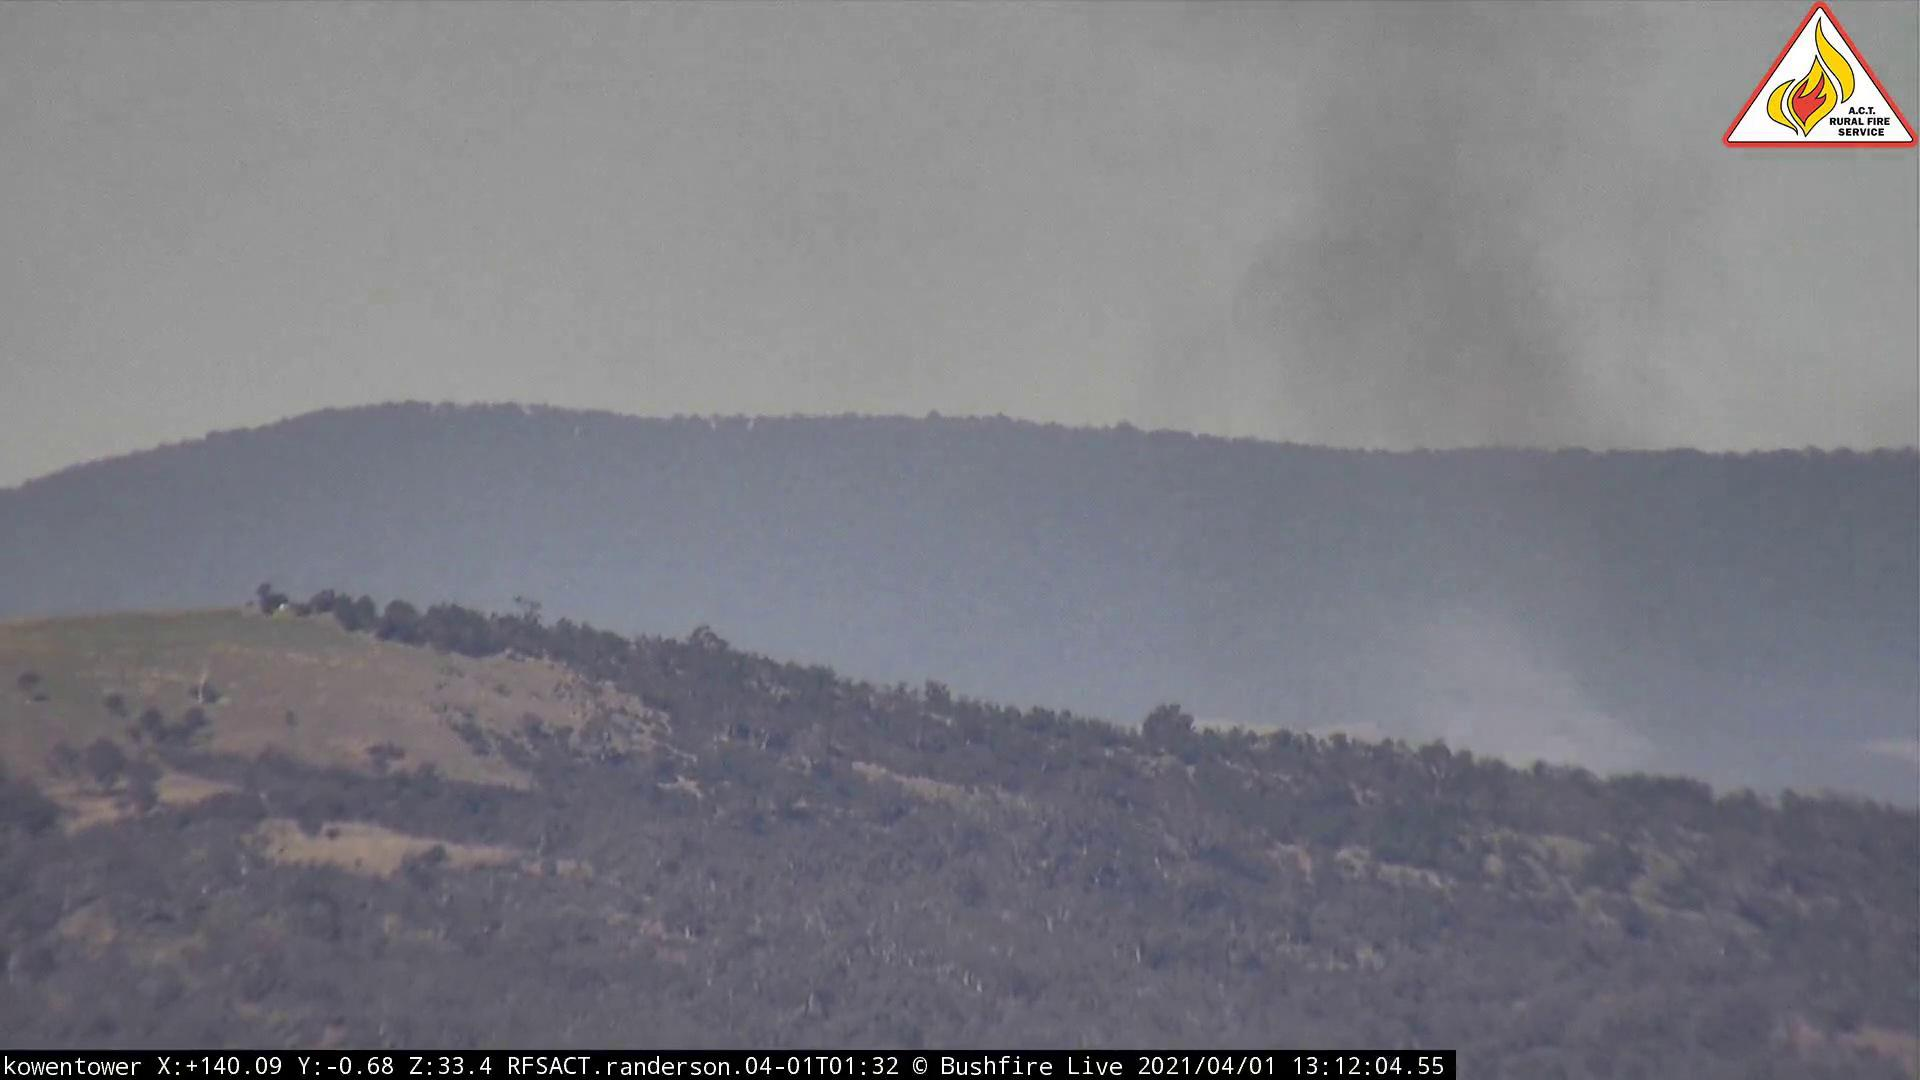instance_salient_object: (1101, 3, 1717, 795)
